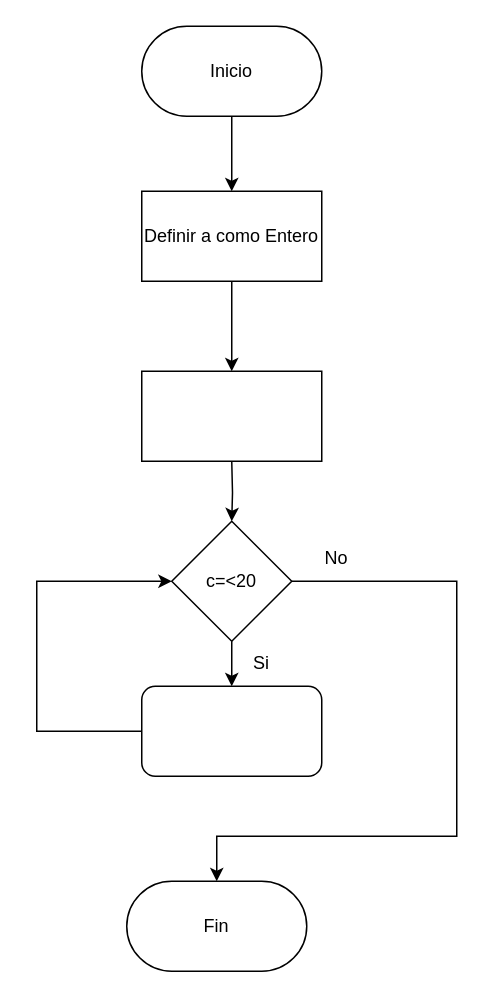
Some shapes in this 495 by 998 pixel diagram are drawn without their labels. Here are the shapes that lost their labels. From the top down, the box of each, then its label:
(140, 370, 322, 461): c=0
(140, 685, 322, 776): Escribir c c=c +1
